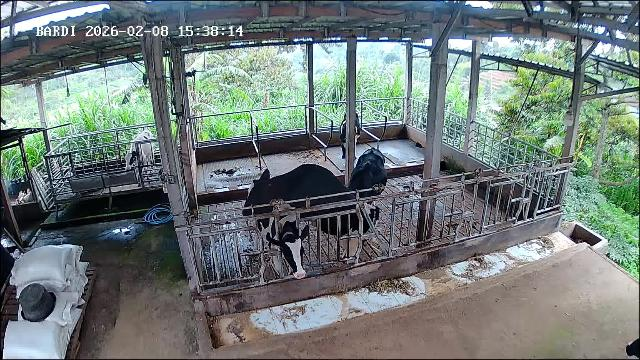mounting: (246, 163, 372, 257)
